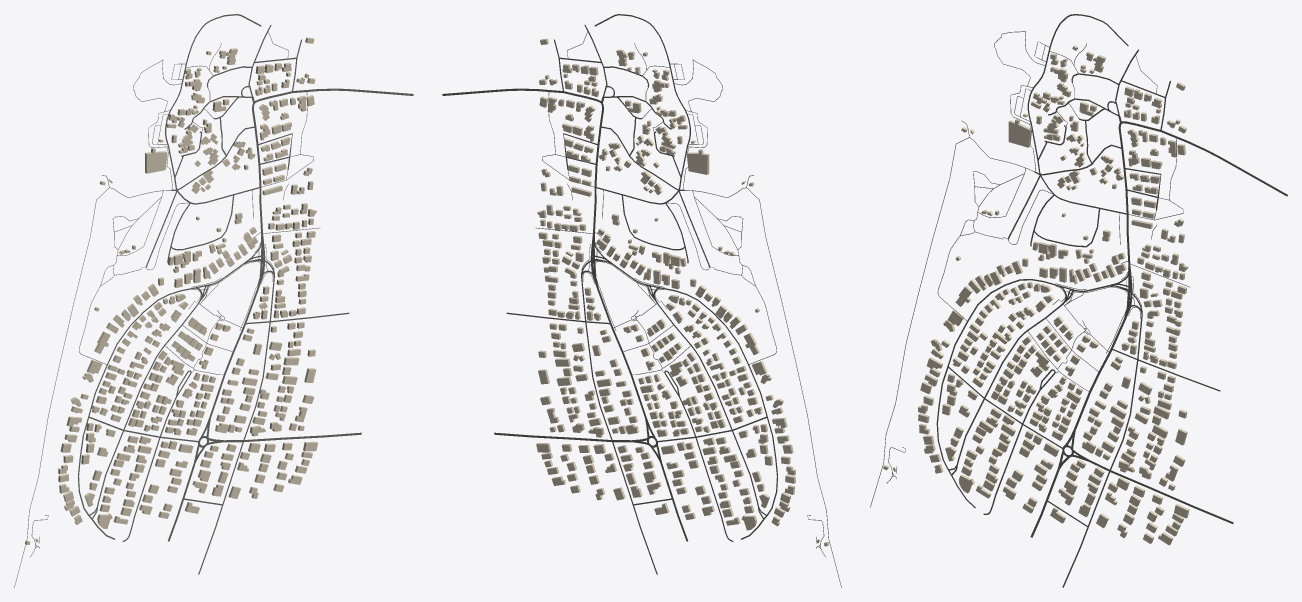
The model's file is historic-palestine-06_27_3480_3218.glb.
3 renders of one model, left to right at view 1: azimuth 30°, elevation 25°; view 2: azimuth 150°, elevation 25°; view 3: azimuth 330°, elevation 25°, orthographic. The views are drawn at different scales.
Parts seen in each view (by area): view 1: Road גלי תכלת.002; view 2: Road גלי תכלת.002; view 3: Road גלי תכלת.002.
Part boxes in pixels (left/top/right/bottom): Road גלי תכלת.002: left=78, top=284, right=210, bottom=515; Road גלי תכלת.002: left=645, top=284, right=777, bottom=515; Road גלי תכלת.002: left=936, top=279, right=1075, bottom=469.
Bounding box in the file's own units: 1017 × 1345 × 8.7.
